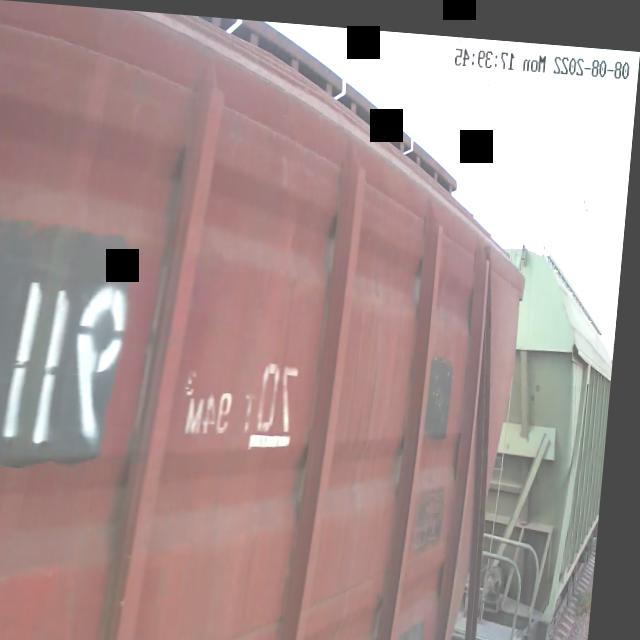hopper: (0, 0, 551, 640), (462, 220, 627, 640)
